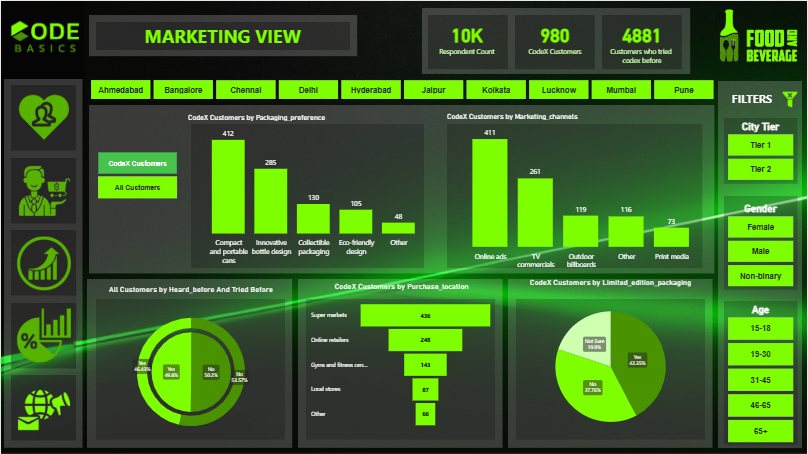

This screenshot's page, from the dashboard's own definition file:
{"tool":"powerbi","page":{"name":"marketing view1","canvas":[1920,1080],"ordinal":4},"visuals":[{"type":"shape","box":[1003.4,17,638.6,157],"z":0,"group":"g8"},{"type":"shape","box":[208.7,33.4,638.6,98],"z":0,"group":"g6"},{"type":"shape","box":[7.9,185.4,187,878],"z":0,"group":"g7"},{"type":"shape","box":[1706.7,189.6,200.3,874.4],"z":0,"group":"g5"},{"type":"group","id":"g1","title":"Group 3","box":[209.1,248,1489.1,401.1],"z":0},{"type":"shape","box":[209.1,248,1489.1,401.1],"z":0,"group":"g1"},{"type":"shape","box":[204.4,662,488.5,402],"z":0,"group":"g4"},{"type":"shape","box":[706.3,662,487,402],"z":0,"group":"g3"},{"type":"shape","box":[1207.3,662,487,402],"z":0,"group":"g2"},{"type":"shape","box":[1431.3,32.8,190,129],"z":1000,"group":"g8"},{"type":"shape","box":[225.5,49,605,66.8],"z":1000,"group":"g6"},{"type":"advancedSlicerVisual","fields":{"Values":["dim_cities.City"]},"box":[209.1,183,1497.6,55.5],"z":1000},{"type":"image","box":[33.3,207.9,138.3,139.7],"z":1000,"group":"g7"},{"type":"shape","box":[1721.2,278.7,175.3,156.5],"z":1000,"group":"g5"},{"type":"shape","box":[1062.3,292.2,608,343.5],"z":1000,"group":"g1"},{"type":"shape","box":[225.9,710,450,335],"z":1000,"group":"g4"},{"type":"shape","box":[724.8,710,450,335],"z":1000,"group":"g3"},{"type":"shape","box":[1225.8,710,450,335],"z":1000,"group":"g2"},{"type":"card","fields":{"Values":["Key Measures.Customers who tried codex before"]},"box":[1441.3,0,171.1,175],"z":2000,"group":"g8"},{"type":"textbox","box":[235.9,48.9,584.2,67],"z":2000,"group":"g6"},{"type":"shape","box":[452.2,292.2,554.7,343.5],"z":2000,"group":"g1"},{"type":"image","box":[33.3,380.7,138.3,139.7],"z":2000,"group":"g7"},{"type":"group","id":"g2","title":"Group 3","box":[1207.3,658.9,487,405.1],"z":2000},{"type":"pieChart","fields":{"Y":["Key Measures.CodeX Customers"],"Category":["fact_survey_responses.Limited_edition_packaging"]},"box":[1208.9,658.9,484.3,401.1],"z":2000,"group":"g2"},{"type":"funnel","fields":{"Y":["Key Measures.CodeX Customers"],"Category":["fact_survey_responses.Purchase_location"]},"box":[731.4,669.6,441.6,366.9],"z":2000,"group":"g3"},{"type":"donutChart","title":"All Customers by Heard_before And Tried Before","fields":{"Y":["Key Measures.CodeX Customers"],"Category":["fact_survey_responses.Heard_before"]},"box":[212.9,676,476,393.1],"z":2000,"group":"g4"},{"type":"shape","box":[1721.2,712.8,175.3,342.3],"z":2000,"group":"g5"},{"type":"shape","box":[1223.9,32.8,190,129],"z":3000,"group":"g8"},{"type":"columnChart","fields":{"Y":["Key Measures.CodeX Customers"],"Category":["fact_survey_responses.Marketing_channels"]},"box":[1056,265.7,632,382],"z":3000,"group":"g1"},{"type":"shape","box":[1721.2,464.4,175.3,223.3],"z":3000,"group":"g5"},{"type":"image","box":[33.3,553.6,138.3,139.7],"z":3000,"group":"g7"},{"type":"group","id":"g3","title":"Group 3","box":[706.3,662,487,402],"z":3000},{"type":"pieChart","fields":{"Y":["Key Measures.CodeX Customers"],"Category":["fact_survey_responses.Tried_before"]},"box":[282,742,339.2,281.6],"z":3000,"group":"g4"},{"type":"card","fields":{"Values":["Key Measures.Measure 2"]},"box":[1233.3,0,171,175],"z":4000,"group":"g8"},{"type":"columnChart","fields":{"Y":["Key Measures.CodeX Customers"],"Category":["fact_survey_responses.Packaging_preference"]},"box":[439.4,266.6,593.1,369.1],"z":4000,"group":"g1"},{"type":"advancedSlicerVisual","title":"City Tier","fields":{"Values":["dim_cities.Tier"]},"box":[1726.5,285.4,165.1,145.7],"z":4000,"group":"g5"},{"type":"group","id":"g4","title":"Group 1","box":[204.4,662,488.5,407.1],"z":4000},{"type":"image","box":[33.3,726.4,138.3,139.7],"z":4000,"group":"g7"},{"type":"shape","box":[1016.6,32.8,190,129],"z":5000,"group":"g8"},{"type":"group","id":"g5","title":"Group 2","box":[1706.7,189.6,200.5,874.4],"z":5000},{"type":"shape","box":[24.2,199.9,155,155.9],"z":5000,"group":"g7"},{"type":"advancedSlicerVisual","fields":{"Values":["Customers.Customers"]},"box":[226.2,354.7,198.4,121.6],"z":5000,"group":"g1"},{"type":"advancedSlicerVisual","fields":{"Values":["dim_repondents.Gender"]},"box":[1726.5,479.2,165.1,204.4],"z":5000,"group":"g5"},{"type":"card","fields":{"Values":["CountNonNull(dim_repondents.Respondent_ID)"]},"box":[1025.3,0,171,175],"z":6000,"group":"g8"},{"type":"group","id":"g6","title":"Group 5","box":[208.7,33.4,638.6,98.1],"z":6000},{"type":"shape","box":[23.9,545.5,155,155.9],"z":6000,"group":"g7"},{"type":"advancedSlicerVisual","fields":{"Values":["dim_repondents.Age"]},"box":[1726.5,720.7,165.1,336.9],"z":6000,"group":"g5"},{"type":"image","box":[8.3,4.2,187.8,158.6],"z":7000},{"type":"textbox","box":[1728,208,119.5,53.3],"z":7000,"group":"g5"},{"type":"shape","box":[23.9,718.3,155,155.9],"z":7000,"group":"g7"},{"type":"image","box":[1690.4,0,229.6,167],"z":8000},{"type":"image","box":[1849.6,207.8,57.6,49.1],"z":8000,"group":"g5"},{"type":"shape","box":[24.2,891.1,155,155.9],"z":8000,"group":"g7"},{"type":"group","id":"g7","title":"Group 4","box":[7.9,185.4,187,878],"z":9000},{"type":"shape","box":[23.9,372.7,155,155.9],"z":9000,"group":"g7"},{"type":"group","id":"g8","title":"Group 6","box":[1003.4,0,638.6,175],"z":10000},{"type":"image","box":[33.3,899.2,138.3,139.7],"z":10000,"group":"g7"}]}

Visuals, with their boxes in screenshot pixels (x1, y1, x2, y2), scaled from the page's 1920x1080 canvas onto the 808x454 screenshot:
shape: rect(422, 7, 691, 73)
shape: rect(88, 14, 357, 55)
shape: rect(3, 78, 82, 447)
shape: rect(718, 80, 803, 447)
"Group 3" group: rect(88, 104, 715, 273)
shape: rect(88, 104, 715, 273)
shape: rect(86, 278, 292, 447)
shape: rect(297, 278, 502, 447)
shape: rect(508, 278, 713, 447)
shape: rect(602, 14, 682, 68)
shape: rect(95, 21, 350, 49)
advancedSlicerVisual - dim_cities.City: rect(88, 77, 718, 100)
image: rect(14, 87, 72, 146)
shape: rect(724, 117, 798, 183)
shape: rect(447, 123, 703, 267)
shape: rect(95, 298, 284, 439)
shape: rect(305, 298, 494, 439)
shape: rect(516, 298, 705, 439)
card - Key Measures.Customers who tried codex before: rect(607, 0, 679, 74)
textbox: rect(99, 21, 345, 49)
shape: rect(190, 123, 424, 267)
image: rect(14, 160, 72, 219)
"Group 3" group: rect(508, 277, 713, 447)
pieChart - Key Measures.CodeX Customers x fact_survey_responses.Limited_edition_packaging: rect(509, 277, 713, 446)
funnel - Key Measures.CodeX Customers x fact_survey_responses.Purchase_location: rect(308, 281, 494, 436)
"All Customers by Heard_before And Tried Before" donutChart: rect(90, 284, 290, 449)
shape: rect(724, 300, 798, 444)
shape: rect(515, 14, 595, 68)
columnChart - Key Measures.CodeX Customers x fact_survey_responses.Marketing_channels: rect(444, 112, 710, 272)
shape: rect(724, 195, 798, 289)
image: rect(14, 233, 72, 291)
"Group 3" group: rect(297, 278, 502, 447)
pieChart - Key Measures.CodeX Customers x fact_survey_responses.Tried_before: rect(119, 312, 261, 430)
card - Key Measures.Measure 2: rect(519, 0, 591, 74)
columnChart - Key Measures.CodeX Customers x fact_survey_responses.Packaging_preference: rect(185, 112, 435, 267)
"City Tier" advancedSlicerVisual: rect(727, 120, 796, 181)
"Group 1" group: rect(86, 278, 292, 449)
image: rect(14, 305, 72, 364)
shape: rect(428, 14, 508, 68)
"Group 2" group: rect(718, 80, 803, 447)
shape: rect(10, 84, 75, 150)
advancedSlicerVisual - Customers.Customers: rect(95, 149, 179, 200)
advancedSlicerVisual - dim_repondents.Gender: rect(727, 201, 796, 287)
card - CountNonNull(dim_repondents.Respondent_ID): rect(431, 0, 503, 74)
"Group 5" group: rect(88, 14, 357, 55)
shape: rect(10, 229, 75, 295)
advancedSlicerVisual - dim_repondents.Age: rect(727, 303, 796, 445)
image: rect(3, 2, 83, 68)
textbox: rect(727, 87, 777, 110)
shape: rect(10, 302, 75, 367)
image: rect(711, 0, 807, 70)
image: rect(778, 87, 803, 108)
shape: rect(10, 375, 75, 440)
"Group 4" group: rect(3, 78, 82, 447)
shape: rect(10, 157, 75, 222)
"Group 6" group: rect(422, 0, 691, 74)
image: rect(14, 378, 72, 437)
